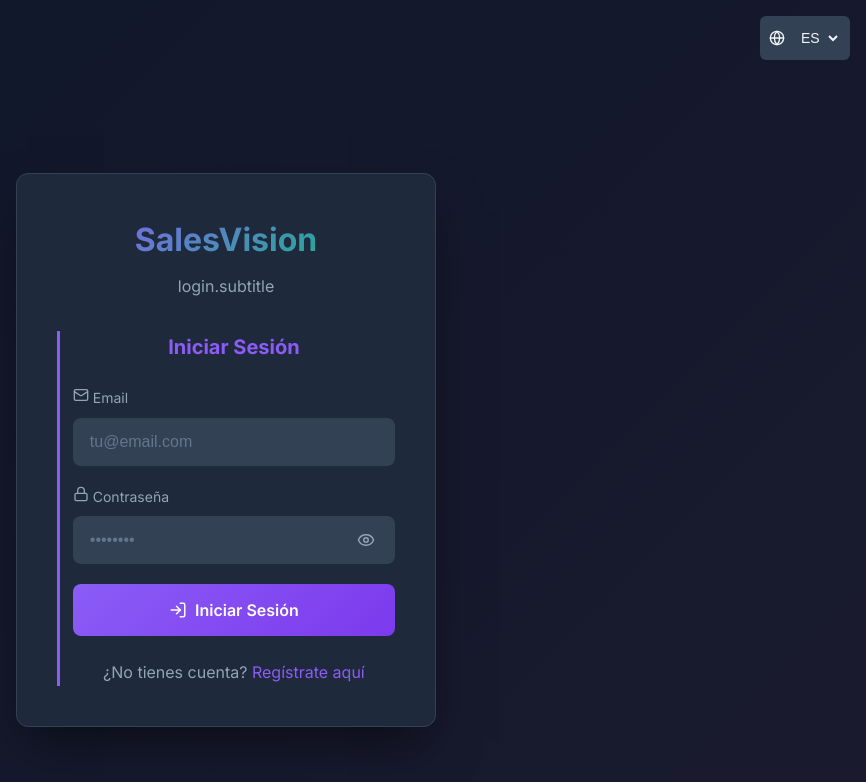
Test: Login Component › muestra validacion para contrasena corta
Click the button "Regístrate aquí".
click(308, 672)  # box [252,662,365,682]
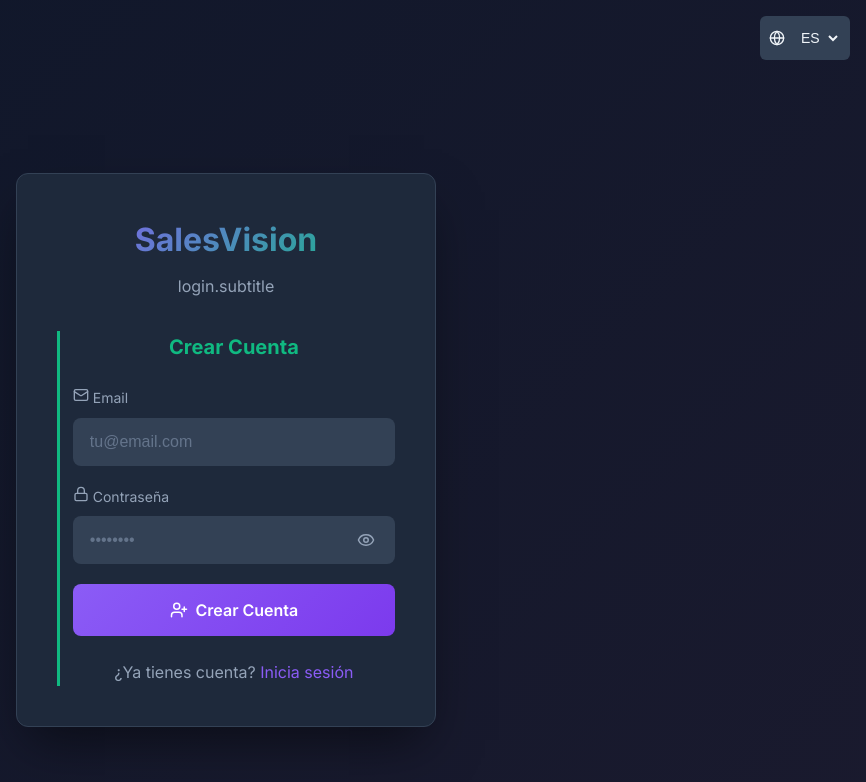
Type "123" into the password field labelled "Contraseña".
click(234, 540); type("123")  # box [73,516,395,564]
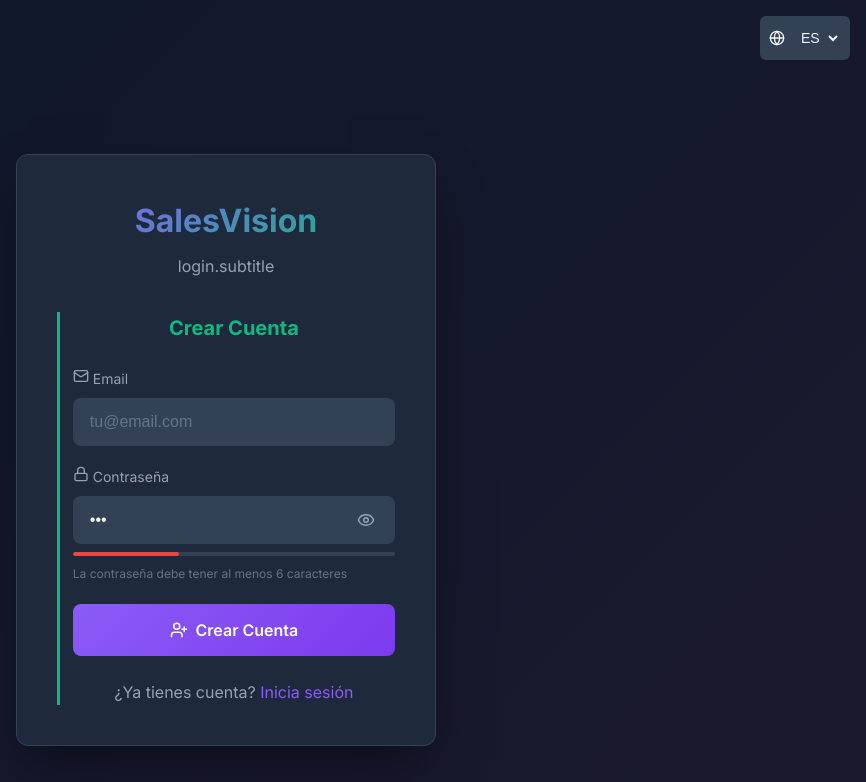
Check: the text "La contraseña debe tener al menos 6 caracteres" is shown, box [73,564,395,584]
